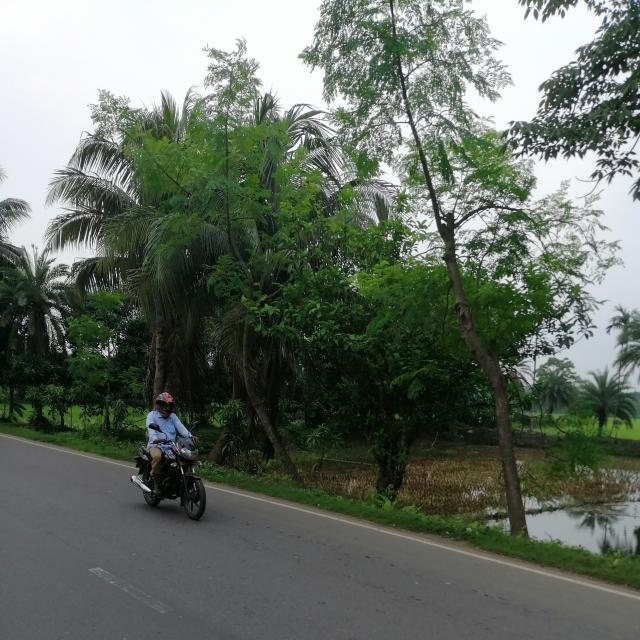Motorbike: (124, 433, 219, 532)
